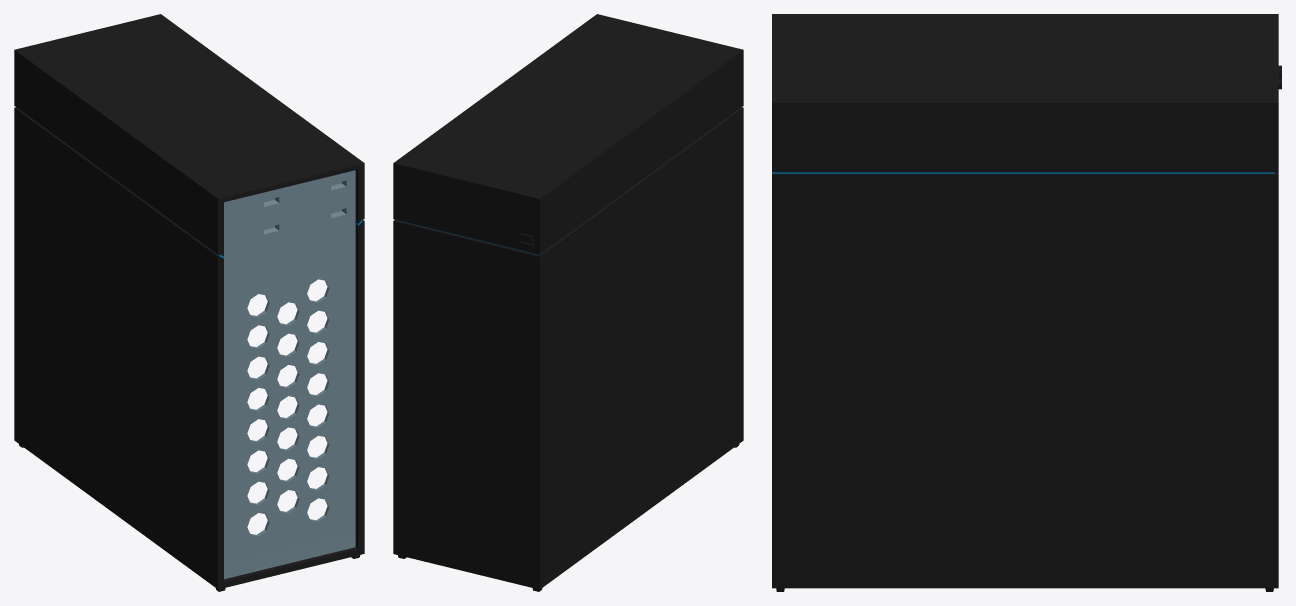
The model's file is pc_lvl2.glb.
3 views of the same model, side by side, from view 1: azimuth 30°, elevation 25°; view 2: azimuth 150°, elevation 25°; view 3: azimuth 270°, elevation 25° (orthographic). The views are drawn at different scales.
Visible parts, largest first — view 1: PC_01_Cube.038; view 2: PC_01_Cube.038; view 3: PC_01_Cube.038.
Part boxes in pixels (x1=…): PC_01_Cube.038: x1=14, y1=14, x2=364, y2=591; PC_01_Cube.038: x1=393, y1=14, x2=743, y2=591; PC_01_Cube.038: x1=772, y1=14, x2=1281, y2=591.
Size of the model in its own units: 0.1785 by 0.46 by 0.4329.
